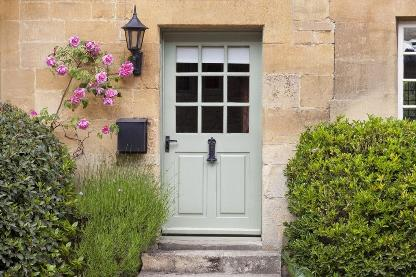door: (153, 20, 265, 239)
